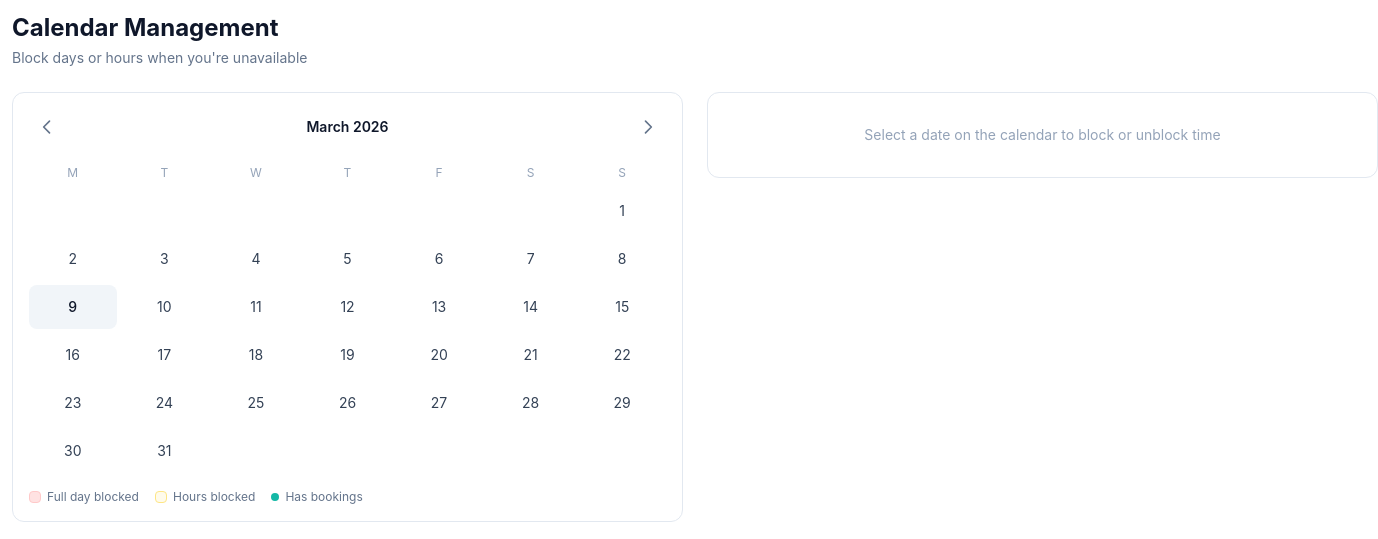
Test: Calendar Page › shows block form when a date is selected
# Click on day 15
Step 1. Click the button "15" → (622, 307), box [578,285,666,329]
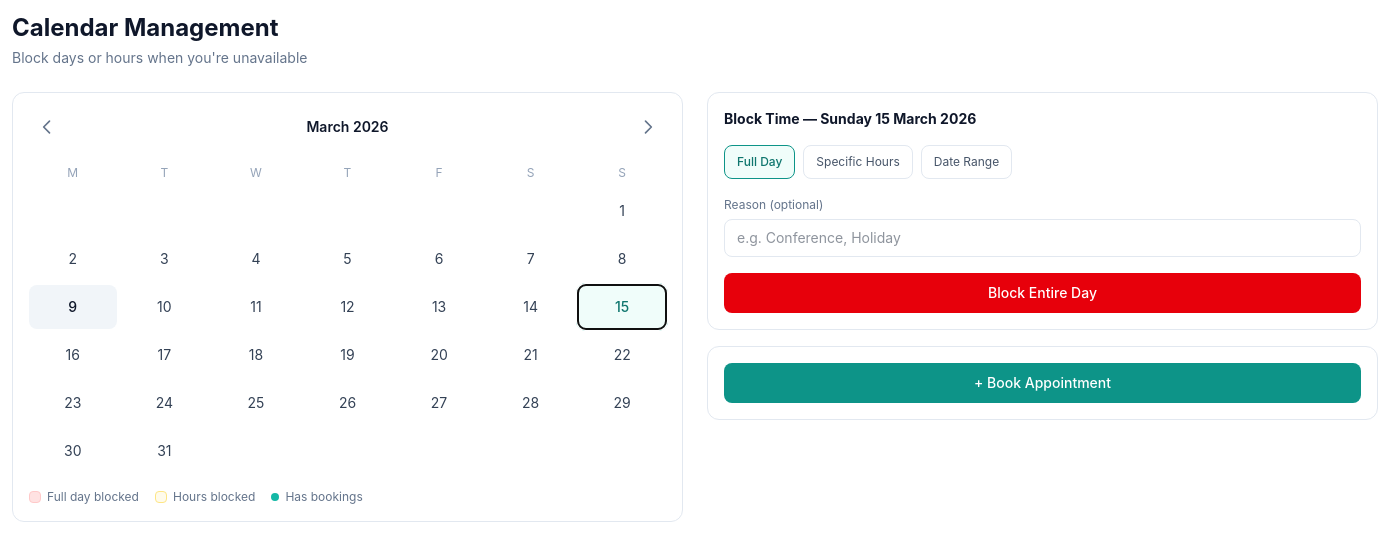
Check: the button "Full Day" is shown, box [724,145,795,179]
Check: the button "Specific Hours" is shown, box [803,145,913,179]
Check: the button "Date Range" is shown, box [921,145,1012,179]
